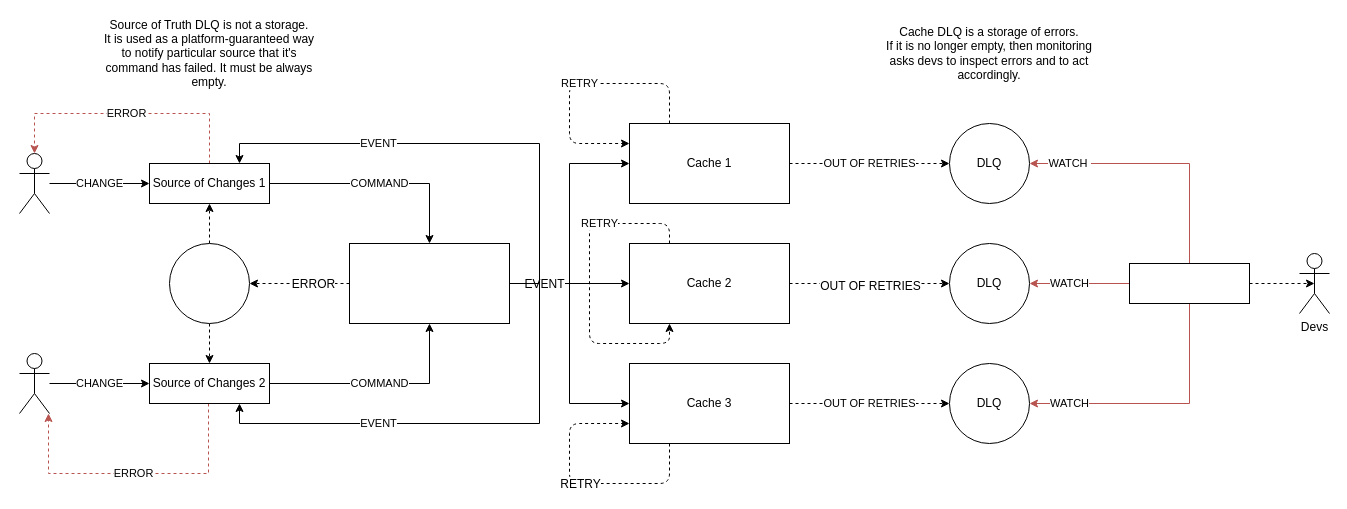
This 1347x509 diagram has some shape labels left out. The shapes that lost their labels are listed below. From the top down, each one's box as (x1, y1, x2, y2) in pixels, then its label:
(18, 152, 50, 214): User 1
(168, 242, 250, 324): DLQ (src)
(348, 242, 510, 324): Source of Truth
(1128, 262, 1250, 304): MONITORING
(18, 352, 50, 414): User 2
